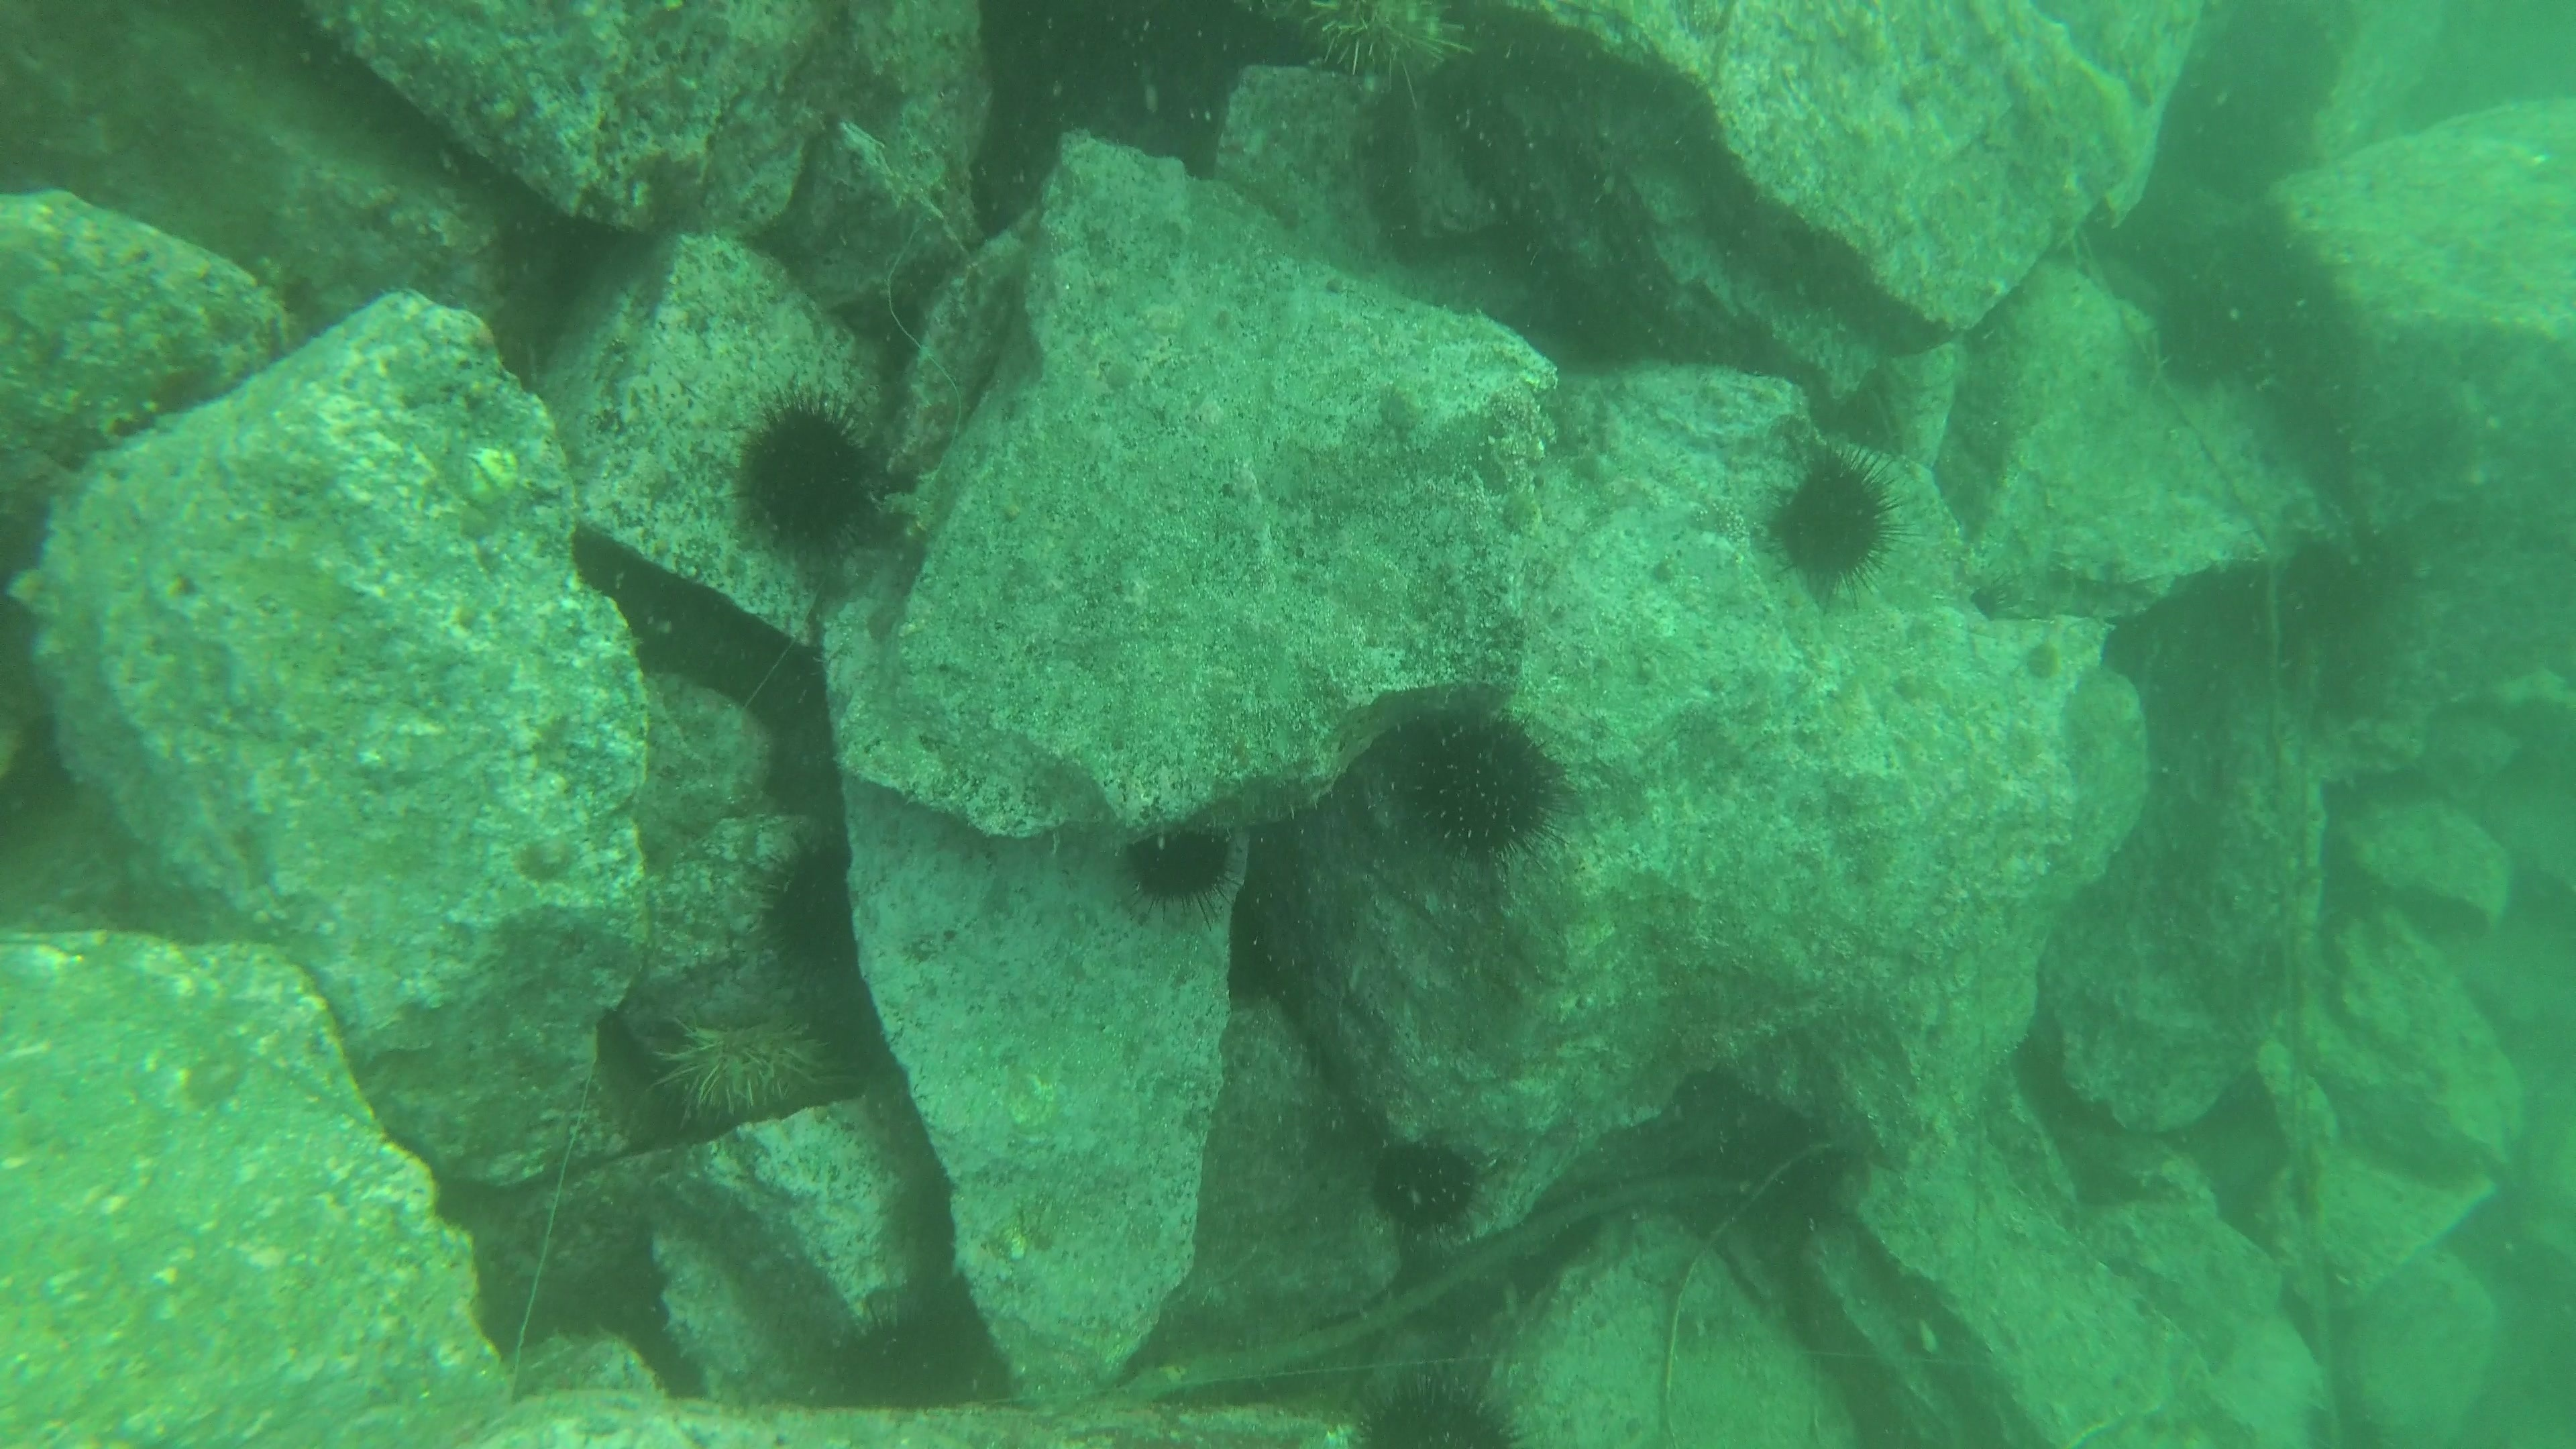echinus: (1394, 706, 1568, 867), (725, 391, 888, 559), (648, 1005, 844, 1132), (816, 1293, 1000, 1419), (1759, 448, 1904, 594), (750, 828, 869, 989), (1286, 2, 1474, 96), (2144, 267, 2277, 395), (1348, 1364, 1527, 1444), (1362, 1129, 1488, 1238), (1116, 812, 1238, 913)
